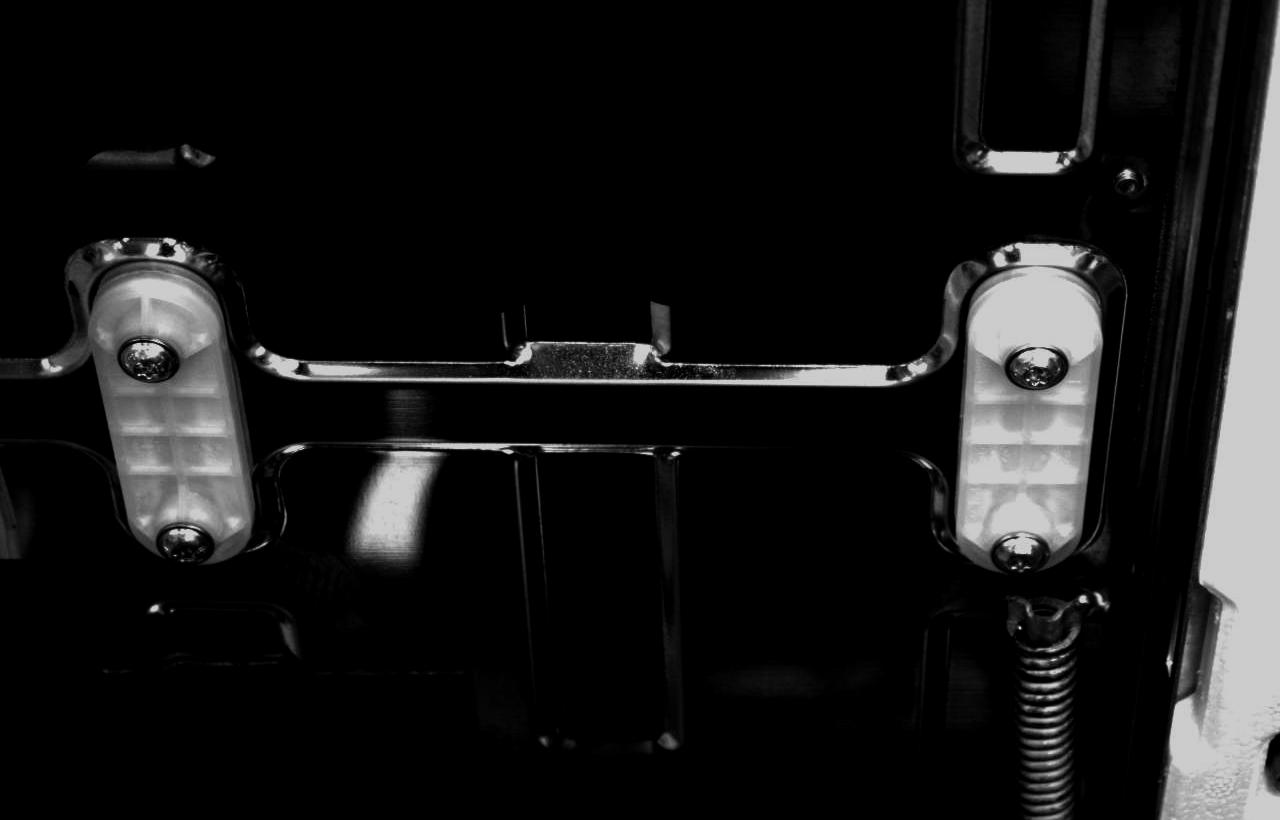vida-ok: (113, 328, 184, 395), (1006, 335, 1073, 402), (154, 514, 220, 572), (986, 524, 1051, 582)
